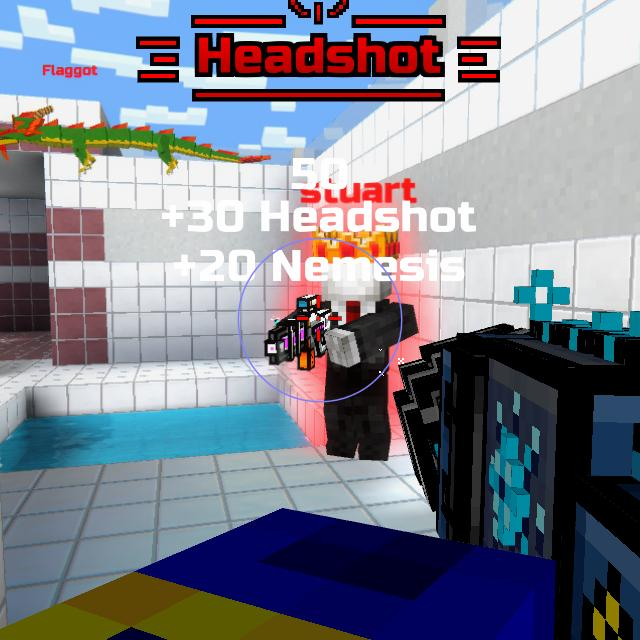Enemy: (275, 239, 420, 461)
